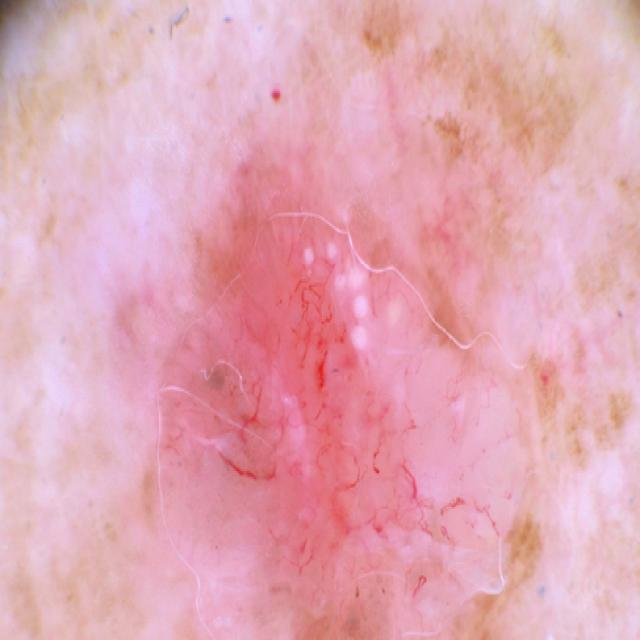Carcinoma: (93, 142, 602, 640)
